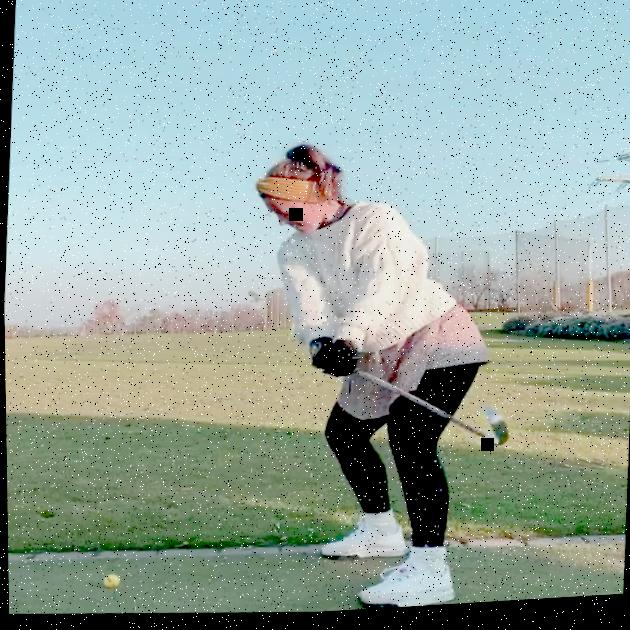ClubHead: (480, 410, 511, 452)
GolfBall: (101, 575, 119, 591)
